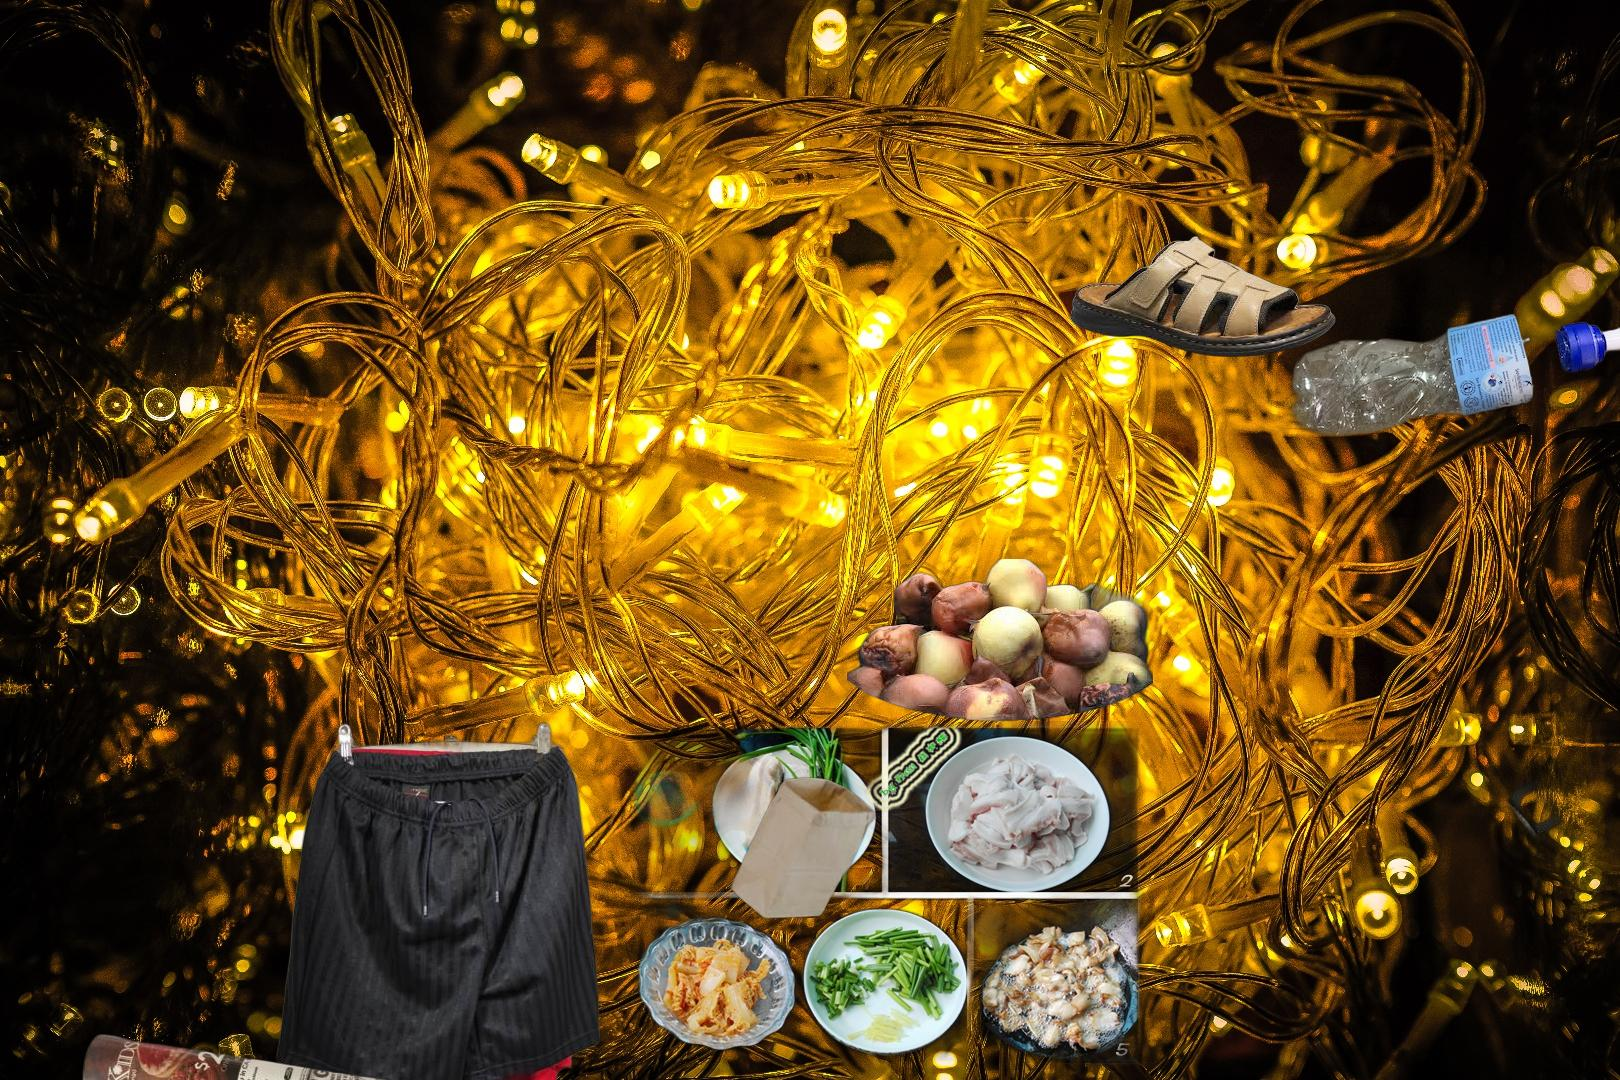biological: (626, 721, 1145, 1080), (847, 559, 1154, 724)
clothes: (272, 687, 604, 1080)
paper: (78, 1032, 541, 1080)
paper-bag: (727, 775, 877, 968)
plastic-bottles: (1284, 309, 1620, 442)
shoes: (1069, 233, 1337, 360)
trashbox-cardboard: (1502, 738, 1568, 857)
